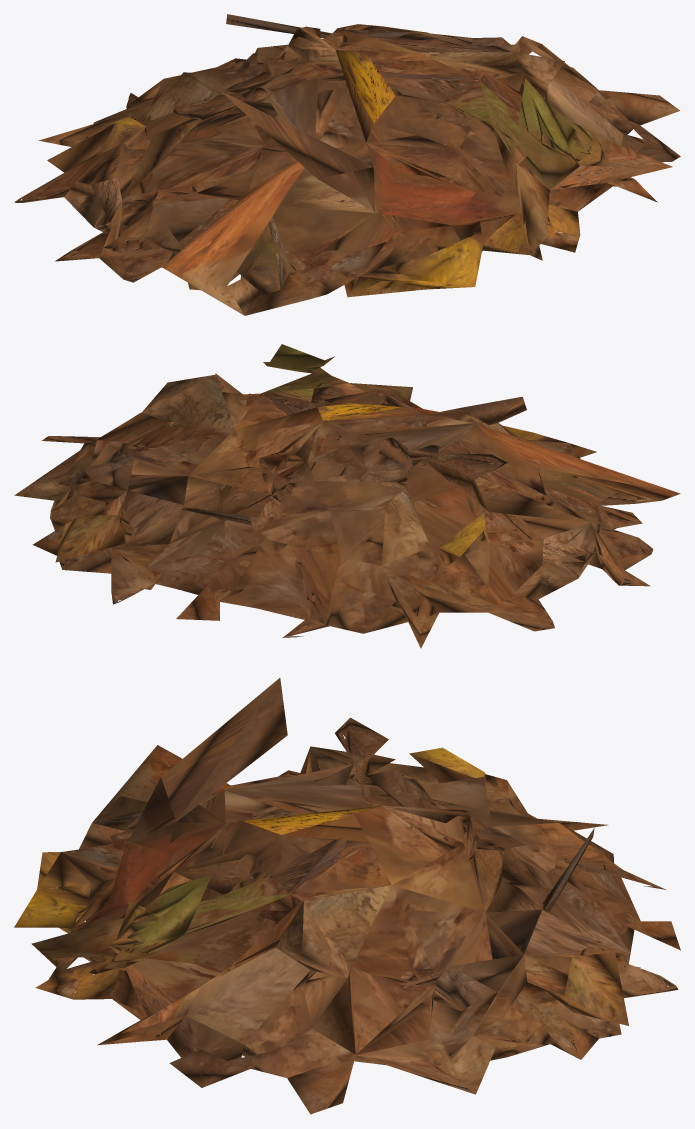
Rendered from VEG_HojasSecasMonton_01_LOD1.fbx.
3 renders of one model, top to bottom at view 1: azimuth 30°, elevation 25°; view 2: azimuth 150°, elevation 25°; view 3: azimuth 270°, elevation 25°, orthographic. The views are drawn at different scales.
Visible parts, largest first — view 1: VEG_HojasSecasMonton_01_Mesh000; view 2: VEG_HojasSecasMonton_01_Mesh000; view 3: VEG_HojasSecasMonton_01_Mesh000.
Boxes of the visible parts, left/top/right/bottom form: VEG_HojasSecasMonton_01_Mesh000: left=14, top=14, right=680, bottom=315; VEG_HojasSecasMonton_01_Mesh000: left=14, top=344, right=680, bottom=648; VEG_HojasSecasMonton_01_Mesh000: left=14, top=678, right=680, bottom=1114.
Size of the model in its own units: 1.4 by 0.3332 by 1.12.
